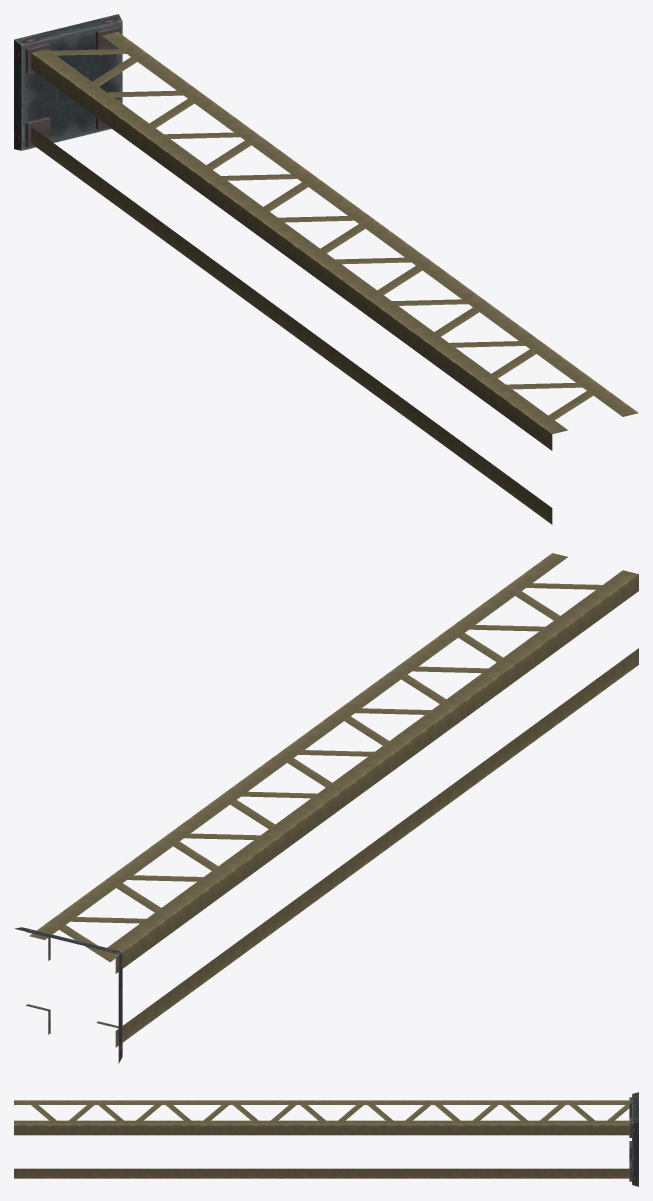
Rendered from frame_column_x2.glb.
3 views of the same model, one above another, from view 1: azimuth 30°, elevation 25°; view 2: azimuth 150°, elevation 25°; view 3: azimuth 270°, elevation 25° (orthographic). The views are drawn at different scales.
Parts seen in each view (by area): view 1: factory.frame_column_x2-Mesh[0], factory.frame_column_x2-Mesh[1], factory.frame_column_x2-Mesh[2]; view 2: factory.frame_column_x2-Mesh[0], factory.frame_column_x2-Mesh[1]; view 3: factory.frame_column_x2-Mesh[0], factory.frame_column_x2-Mesh[1], factory.frame_column_x2-Mesh[2].
Part boxes in pixels (bbox=[...]): factory.frame_column_x2-Mesh[0]: bbox=[31, 31, 638, 524]; factory.frame_column_x2-Mesh[1]: bbox=[14, 14, 122, 150]; factory.frame_column_x2-Mesh[2]: bbox=[25, 25, 120, 147]; factory.frame_column_x2-Mesh[0]: bbox=[29, 553, 638, 1047]; factory.frame_column_x2-Mesh[1]: bbox=[14, 927, 122, 1063]; factory.frame_column_x2-Mesh[0]: bbox=[14, 1100, 629, 1178]; factory.frame_column_x2-Mesh[1]: bbox=[632, 1092, 638, 1186]; factory.frame_column_x2-Mesh[2]: bbox=[629, 1097, 631, 1181].
Size of the model in its own units: 2.08 by 2.08 by 18.2.
Materials: 3 (3 with a texture image).
